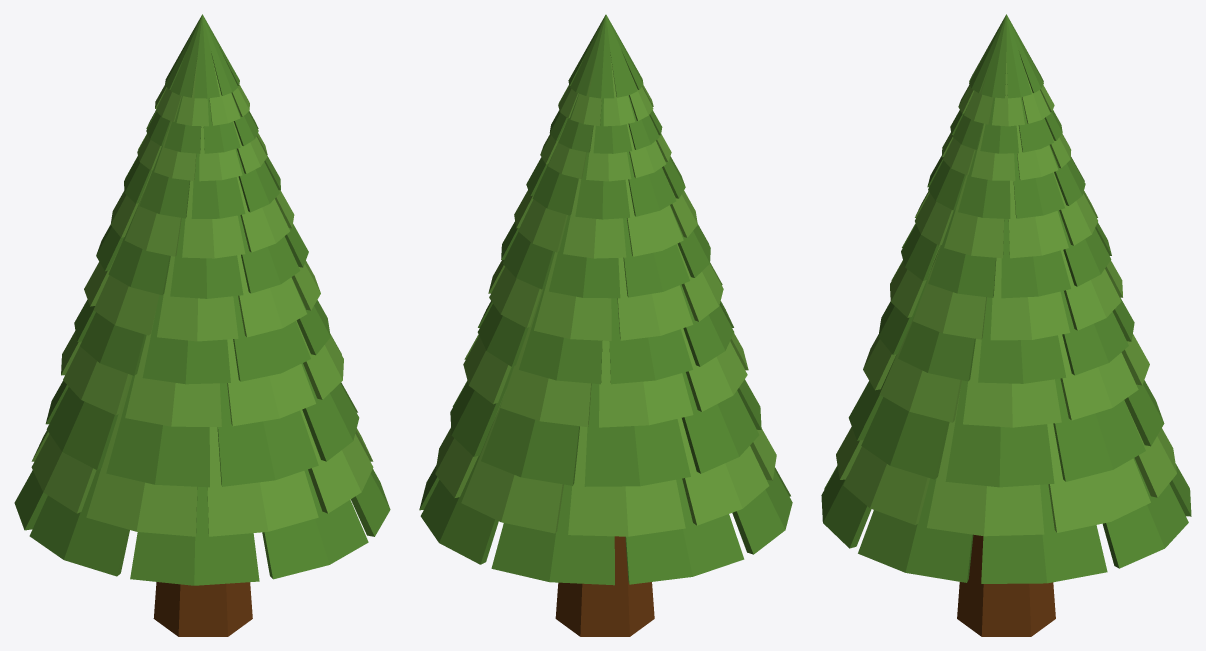
Rendered from Tree_26.fbx.
3 views of the same model, side by side, from view 1: azimuth 30°, elevation 25°; view 2: azimuth 150°, elevation 25°; view 3: azimuth 270°, elevation 25° (orthographic).
Parts seen in each view (by area): view 1: Tree_26; view 2: Tree_26; view 3: Tree_26.
Part boxes in pixels (x1=…): Tree_26: x1=14, y1=14, x2=390, y2=636; Tree_26: x1=419, y1=14, x2=792, y2=636; Tree_26: x1=821, y1=14, x2=1191, y2=636.
Bounding box in the file's own units: 828 × 1492 × 828.
